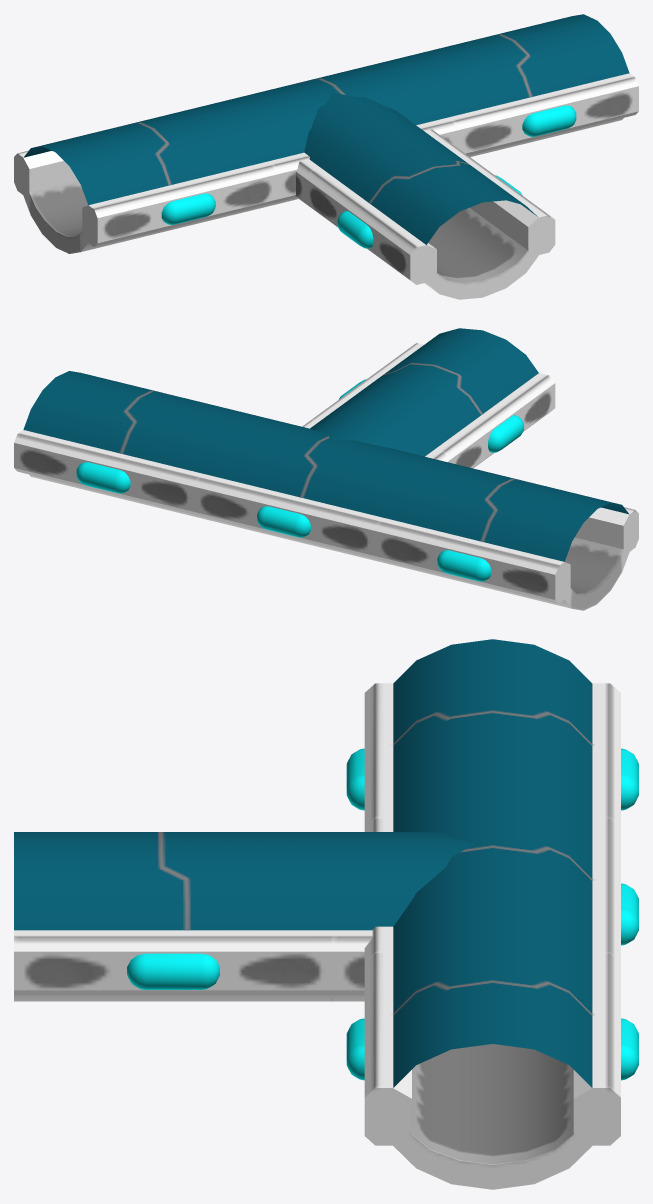
The model's file is Conveyor_T_Splitter.fbx.
The picture shows the model from 3 angles, top to bottom: view 1: azimuth 30°, elevation 25°; view 2: azimuth 150°, elevation 25°; view 3: azimuth 270°, elevation 25°; orthographic projection. The views are drawn at different scales.
Visible parts, largest first — view 1: Cube.163; view 2: Cube.163; view 3: Cube.163.
Boxes of the visible parts, <box> form: Cube.163: <box>14,14,638,299</box>; Cube.163: <box>14,328,638,610</box>; Cube.163: <box>14,639,638,1189</box>.
Bounding box in the file's own units: 600 × 102 × 392.
